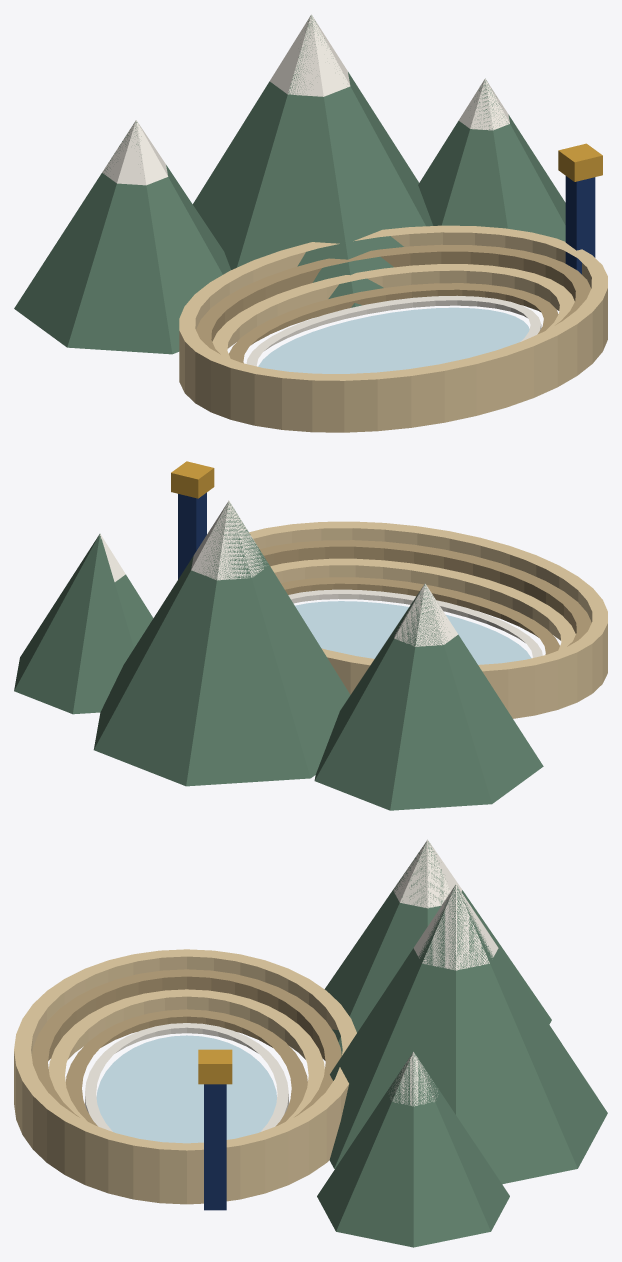
The model's file is medeu.glb.
The picture shows the model from 3 angles, top to bottom: view 1: azimuth 30°, elevation 25°; view 2: azimuth 150°, elevation 25°; view 3: azimuth 270°, elevation 25°; orthographic projection. The views are drawn at different scales.
Size of the model in its own units: 2.21 by 0.95 by 2.1.
